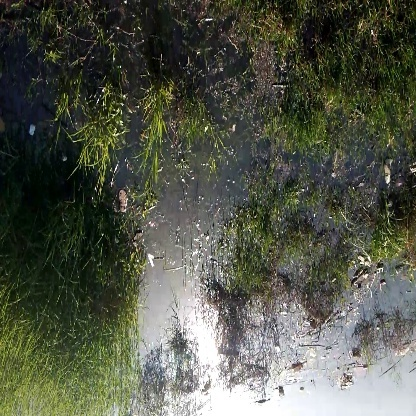grass: (61, 79, 130, 177)
